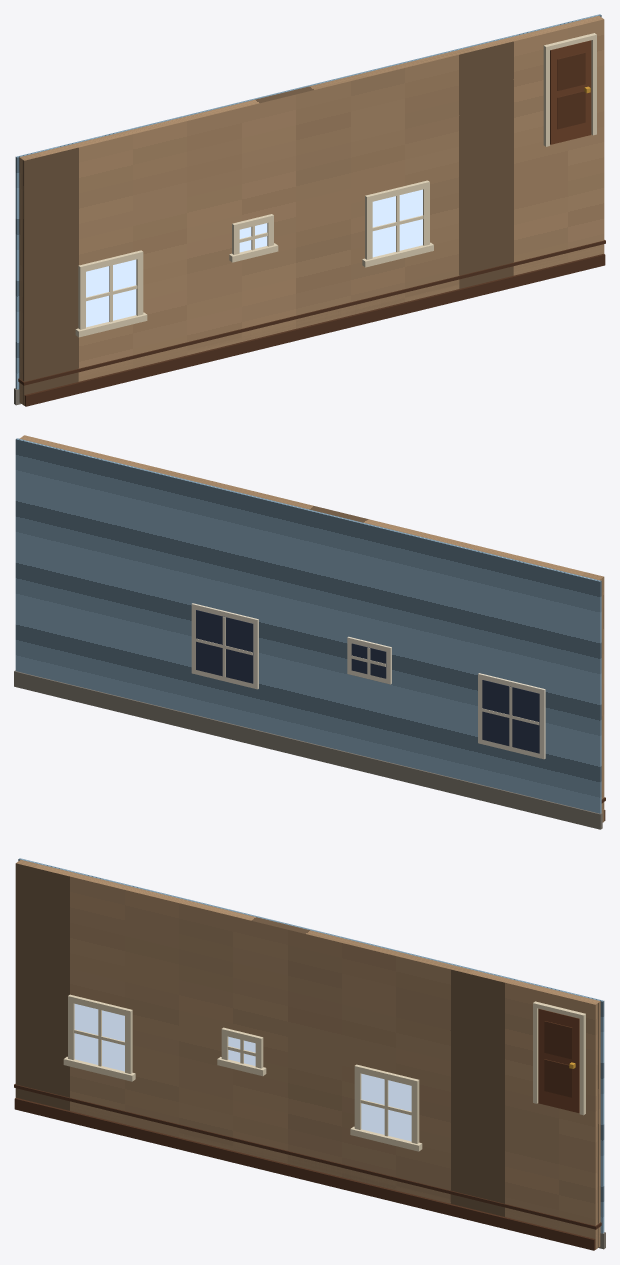
File: back.glb
3 views of the same model, one above another, from view 1: azimuth 30°, elevation 25°; view 2: azimuth 150°, elevation 25°; view 3: azimuth 330°, elevation 25° (orthographic).
Visible parts, largest first — view 1: Box1, Box2, Box42, Box13, Box24, Box43, Box3, slab, slab_panel2, slab_panel, Box39, Box10 (+5 smaller); view 2: Box3, Box4, Box1, Box6, Box17, Box5, Box16, Box28, Box27; view 3: Box1, Box2, Box42, Box24, Box13, Box43, Box3, slab, slab_panel2, slab_panel, Box40, Box10 (+4 smaller).
Boxes of the visible parts, box(x1,y1,x2,y2) form: Box1: box(19, 16, 604, 405); Box2: box(24, 254, 605, 406); Box42: box(19, 244, 604, 404); Box13: box(86, 259, 136, 327); Box24: box(372, 189, 422, 257); Box43: box(18, 240, 605, 385); Box3: box(15, 14, 601, 389); slab: box(550, 40, 591, 144); slab_panel2: box(557, 52, 585, 90); slab_panel: box(557, 91, 585, 129); Box39: box(543, 44, 549, 146); Box10: box(75, 312, 147, 337); Box3: box(15, 438, 601, 813); Box4: box(14, 670, 602, 829); Box1: box(19, 435, 604, 822); Box6: box(482, 680, 539, 753); Box17: box(196, 610, 253, 683); Box5: box(478, 673, 545, 759); Box16: box(191, 603, 258, 689); Box28: box(351, 643, 386, 678); Box27: box(347, 636, 391, 684); Box1: box(15, 860, 600, 1249); Box2: box(14, 1098, 595, 1250); Box42: box(15, 1088, 600, 1248); Box24: box(361, 1073, 411, 1141); Box13: box(74, 1004, 124, 1071); Box43: box(14, 1084, 601, 1229); Box3: box(18, 858, 604, 1233); slab: box(538, 1008, 579, 1112); slab_panel2: box(544, 1021, 572, 1059); slab_panel: box(544, 1059, 572, 1097); Box40: box(579, 1013, 585, 1115); Box10: box(63, 1056, 135, 1081).
Bounding box in the file's own units: 10.27 × 4.14 × 0.373.
Materials: 11 (2 with a texture image).
